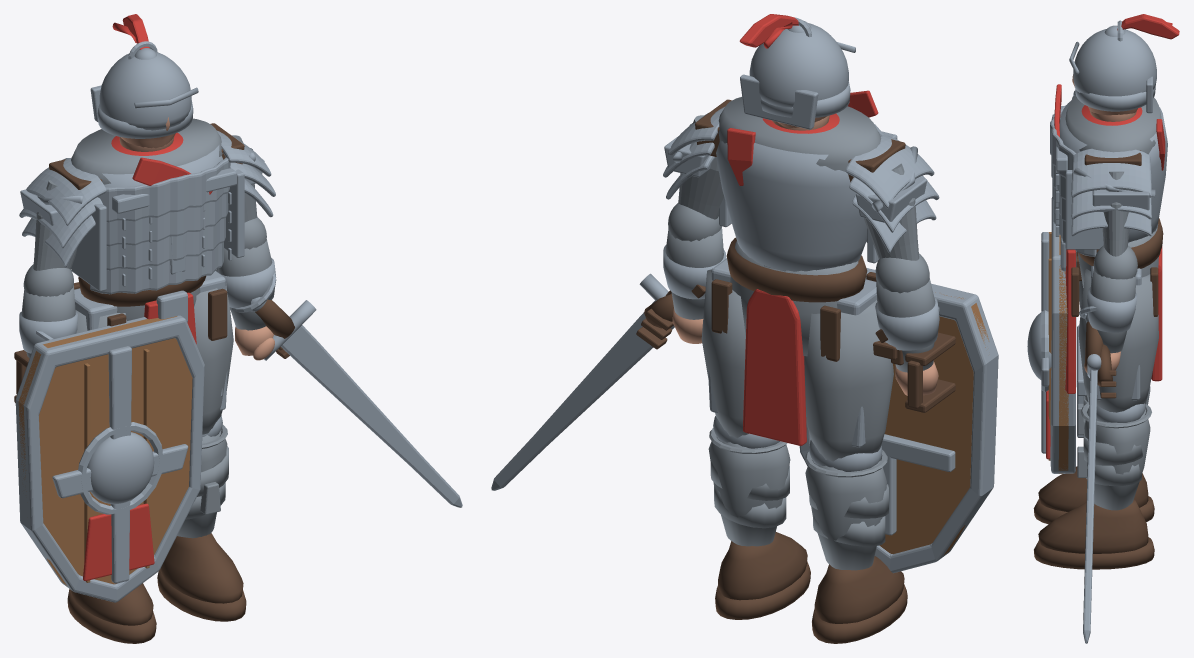
Rendered from SK_Infantry_A_v004_P035_L1Pose_Review.fbx.
3 views of the same model, side by side, from view 1: azimuth 30°, elevation 25°; view 2: azimuth 150°, elevation 25°; view 3: azimuth 270°, elevation 25° (orthographic). The views are drawn at different scales.
Visible parts, largest first — view 1: Shield, Shield_Rim, Helmet, Sword, Boot_R, Body_Base, Shield_Boss, ChestArmor_Lamellar_4, Shield_Reinforcement_V, GEO_Infantry_ChestArmor_SideReturns, GEO_Infantry_Shield_TeamPanel, Thigh_R (+33 smaller); view 2: ChestArmor, Shield, Thigh_L, Shield_Rim, WaistCloth_Rear_P02R1, Helmet, Calf_L, Body_Base, Calf_R, Sword, Thigh_R, Boot_R (+34 smaller); view 3: Thigh_R, Helmet, Boot_R, Shield_Rim, Body_Base, ShoulderArmor_R_1, Calf_R, Sword, BootSole_R, ChestArmor, Boot_L, Shield (+46 smaller).
Boxes of the visible parts, x1,y1,x2,y2 form: Shield: [18, 316, 192, 585]; Shield_Rim: [15, 315, 204, 602]; Helmet: [99, 52, 191, 130]; Sword: [281, 325, 462, 507]; Boot_R: [160, 533, 243, 603]; Body_Base: [71, 118, 222, 184]; Shield_Boss: [87, 432, 154, 504]; ChestArmor_Lamellar_4: [98, 157, 230, 222]; Shield_Reinforcement_V: [108, 346, 131, 583]; GEO_Infantry_ChestArmor_SideReturns: [71, 169, 244, 291]; GEO_Infantry_Shield_TeamPanel: [83, 503, 154, 581]; Thigh_R: [194, 270, 233, 434]; ChestArmor: [716, 130, 878, 271]; Shield: [879, 292, 989, 554]; Thigh_L: [804, 300, 893, 461]; Shield_Rim: [799, 268, 998, 573]; WaistCloth_Rear_P02R1: [743, 289, 806, 445]; Helmet: [749, 23, 848, 107]; Calf_L: [805, 460, 886, 570]; Body_Base: [718, 97, 881, 271]; Calf_R: [708, 436, 790, 546]; Sword: [491, 300, 674, 490]; Thigh_R: [701, 269, 748, 438]; Boot_R: [718, 532, 807, 600]; Thigh_R: [1078, 269, 1158, 412]; Helmet: [1073, 29, 1156, 96]; Boot_R: [1038, 499, 1148, 553]; Shield_Rim: [1050, 197, 1076, 473]; Body_Base: [1065, 95, 1161, 154]; ShoulderArmor_R_1: [1071, 148, 1151, 197]; Calf_R: [1084, 406, 1150, 510]; Sword: [1083, 370, 1097, 643]; BootSole_R: [1034, 537, 1154, 569]; ChestArmor: [1059, 101, 1167, 242]; Boot_L: [1038, 466, 1148, 511]; Shield: [1058, 235, 1068, 473].
Bounding box in the file's own units: 1.53 × 1.82 × 0.4799.
